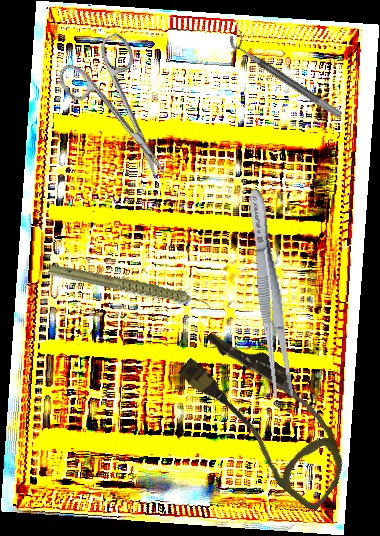Cannula: (163, 318, 373, 514)
Dressing Forceps: (241, 187, 298, 400)
Fixation Ring: (225, 27, 349, 120)
Handpiece: (46, 231, 214, 347)
Iris Scissors: (51, 29, 193, 198)
